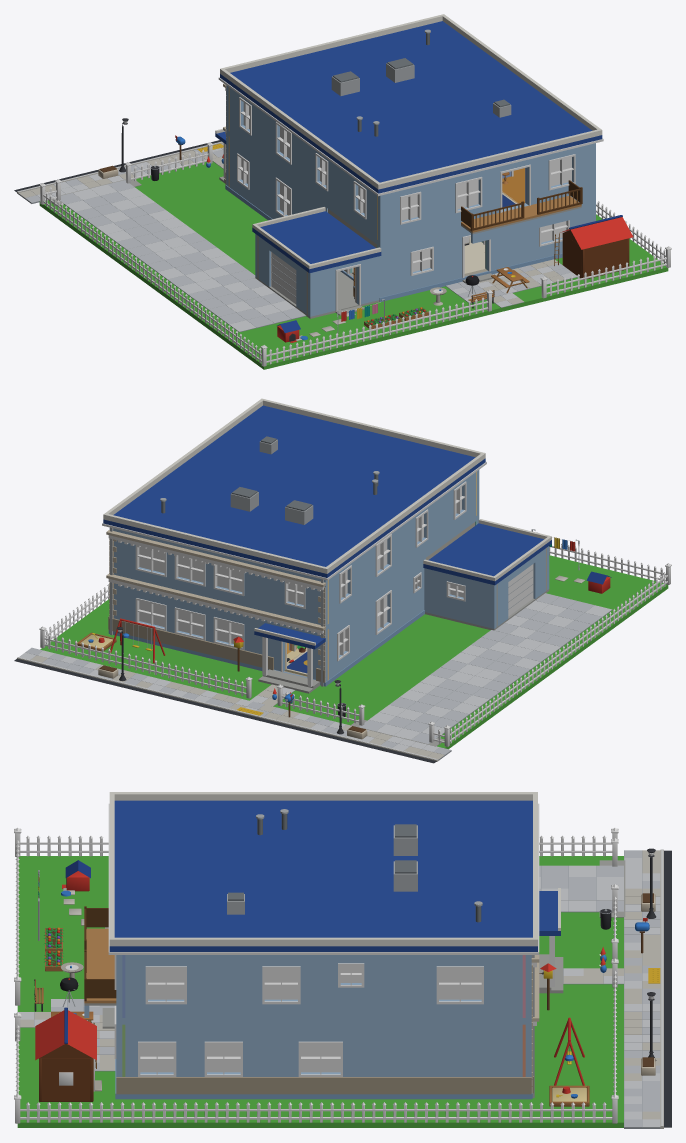
The model's file is OfficeDadHouse_V2_Final.fbx.
3 views of the same model, one above another, from view 1: azimuth 30°, elevation 25°; view 2: azimuth 150°, elevation 25°; view 3: azimuth 270°, elevation 25° (orthographic). The views are drawn at different scales.
Parts seen in each view (by area): view 1: O_Arch_3_-3_0, O_Arch_2_-3_0, O_Arch_3_-5_0, O_Arch_4_-5_0, O_Arch_1_-4_0, O_Arch_2_-5_0, O_Arch_2_-2_0, O_Arch_1_-5_0, O_Arch_0_-3_0, O_Arch_5_-6_0, O_Arch_0_-2_0, O_Arch_0_-1_0 (+23 smaller); view 2: O_Arch_3_-3_0, O_Arch_2_-3_0, O_Arch_3_-1_0, O_Arch_1_-4_0, O_Arch_4_-1_0, O_Arch_2_-1_0, O_Arch_2_-2_0, O_Arch_2_-4_0, O_Arch_2_0_0, O_Arch_0_-3_0, O_Arch_5_-1_0, O_Arch_0_-2_0 (+21 smaller); view 3: O_Arch_3_-3_0, O_Arch_2_-3_0, O_Arch_5_-3_0, O_Arch_5_-2_0, O_Arch_5_-4_0, O_Arch_5_-5_0, O_Arch_2_0_0, O_Arch_5_-6_0, O_Arch_4_-5_0, O_Arch_0_-1_0, O_Arch_2_-1_0, O_Arch_5_-1_0 (+20 smaller).
Part boxes in pixels (x1,y1,x2,y2): O_Arch_3_-3_0: (220, 21, 602, 193); O_Arch_2_-3_0: (39, 69, 668, 369); O_Arch_3_-5_0: (375, 129, 603, 303); O_Arch_4_-5_0: (461, 148, 595, 277); O_Arch_1_-4_0: (230, 207, 381, 318); O_Arch_2_-5_0: (353, 180, 437, 304); O_Arch_2_-2_0: (229, 88, 279, 218); O_Arch_1_-5_0: (271, 247, 381, 324); O_Arch_0_-3_0: (43, 194, 261, 361); O_Arch_5_-6_0: (569, 215, 671, 278); O_Arch_0_-2_0: (64, 204, 305, 332); O_Arch_0_-1_0: (42, 178, 147, 226); O_Arch_3_-3_0: (103, 405, 485, 577); O_Arch_2_-3_0: (40, 454, 668, 749); O_Arch_3_-1_0: (102, 513, 330, 694); O_Arch_1_-4_0: (423, 523, 551, 641); O_Arch_4_-1_0: (44, 534, 273, 694); O_Arch_2_-1_0: (241, 566, 328, 711); O_Arch_2_-2_0: (284, 546, 376, 679); O_Arch_2_-4_0: (372, 471, 458, 617); O_Arch_2_0_0: (14, 657, 451, 763); O_Arch_0_-3_0: (450, 575, 667, 741); O_Arch_5_-1_0: (39, 527, 137, 660); O_Arch_0_-2_0: (396, 609, 612, 737); O_Arch_3_-3_0: (109, 800, 537, 951); O_Arch_2_-3_0: (17, 792, 623, 1127); O_Arch_5_-3_0: (20, 937, 612, 1122); O_Arch_5_-2_0: (381, 955, 522, 1122); O_Arch_5_-4_0: (173, 955, 300, 1122); O_Arch_5_-5_0: (67, 955, 187, 1122); O_Arch_2_0_0: (624, 849, 671, 1128); O_Arch_5_-6_0: (14, 1007, 92, 1123); O_Arch_4_-5_0: (84, 928, 122, 1076); O_Arch_0_-1_0: (539, 829, 625, 917); O_Arch_2_-1_0: (539, 888, 623, 993); O_Arch_5_-1_0: (518, 955, 618, 1123).
Size of the model in its own units: 138 by 41.76 by 138.
